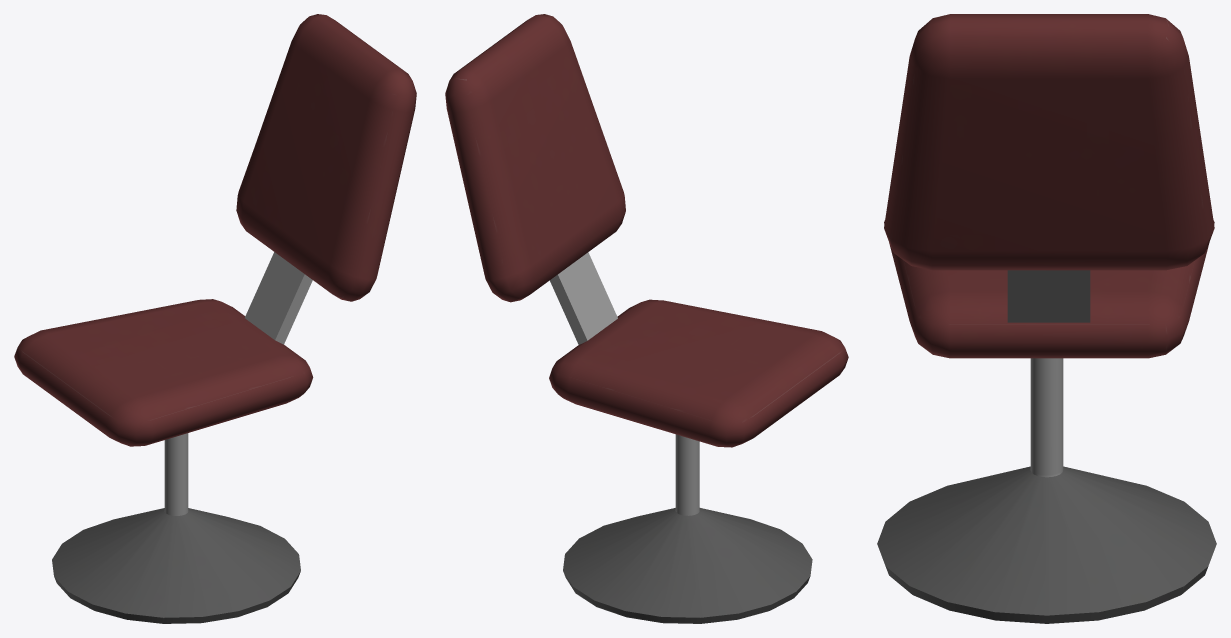
The model's file is Medical_Chair.fbx.
3 views of the same model, side by side, from view 1: azimuth 30°, elevation 25°; view 2: azimuth 150°, elevation 25°; view 3: azimuth 270°, elevation 25° (orthographic). The views are drawn at different scales.
Visible parts, largest first — view 1: Medical_Chair; view 2: Medical_Chair; view 3: Medical_Chair.
Part boxes in pixels (x1,y1,x2,y2): Medical_Chair: (14, 14, 416, 623); Medical_Chair: (445, 14, 848, 623); Medical_Chair: (877, 14, 1216, 623).
Size of the model in its own units: 243 by 358 by 168.
